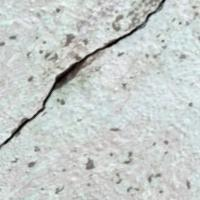crack: (0, 0, 168, 169)
